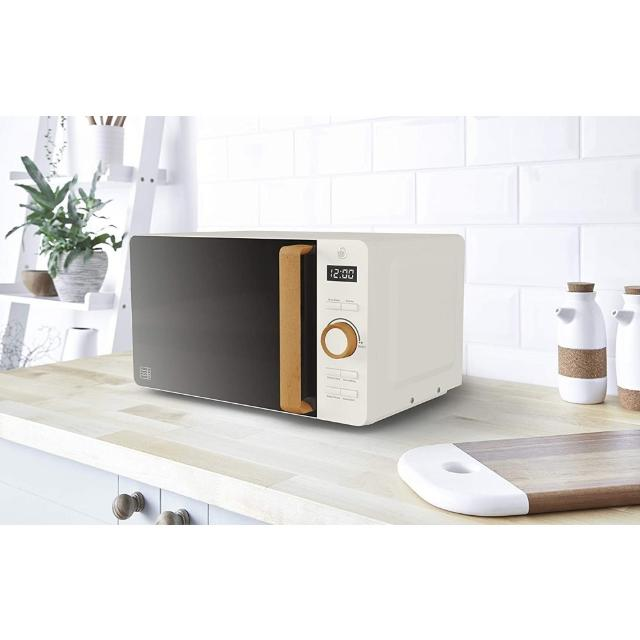Microwave: (128, 229, 468, 431)
